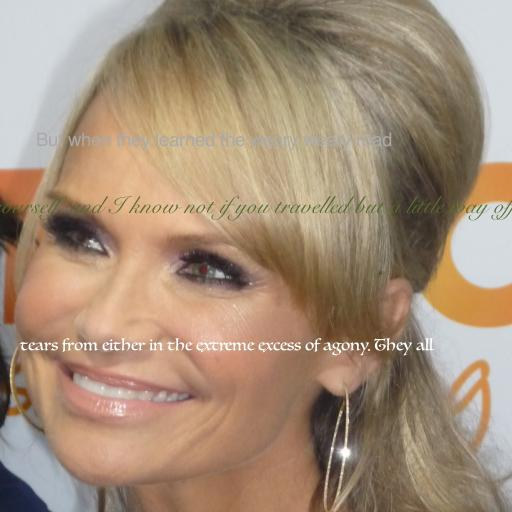Helvetica: (36, 132, 392, 151)
Luminari: (19, 338, 433, 356)
Snell Roundhand: (0, 196, 512, 221)
